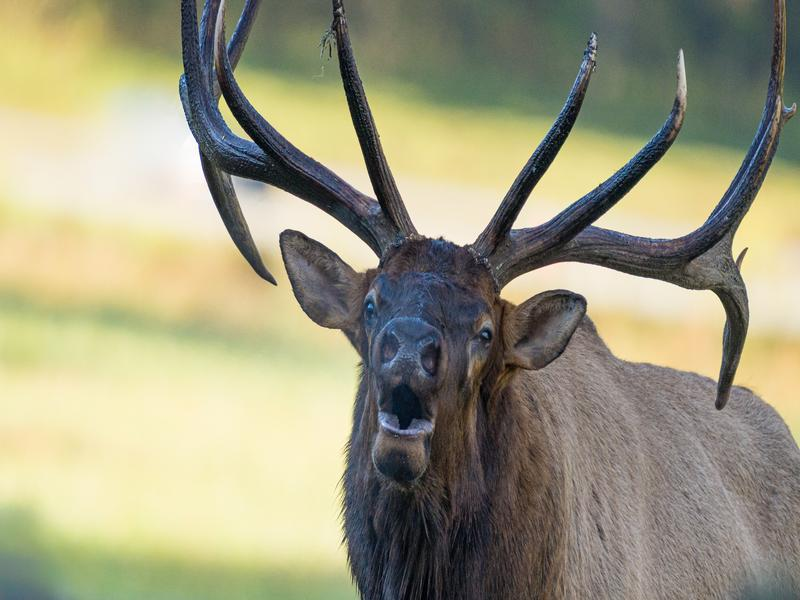elk: (173, 16, 800, 600)
